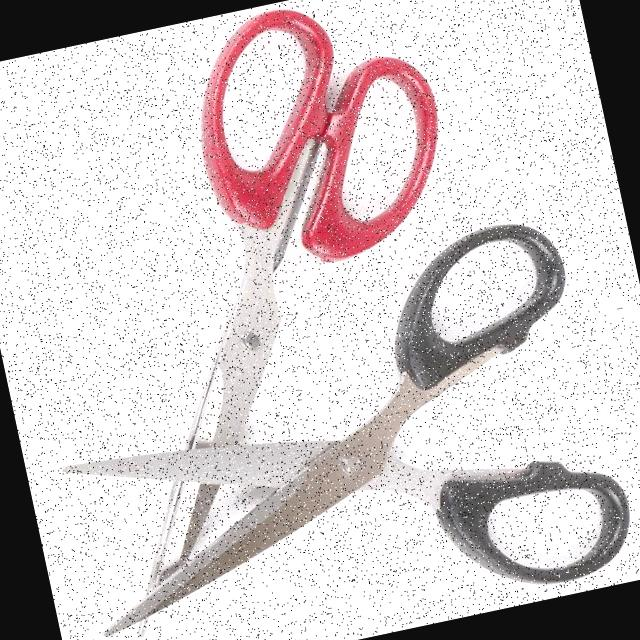scissors: (23, 208, 640, 640), (110, 0, 475, 640)
